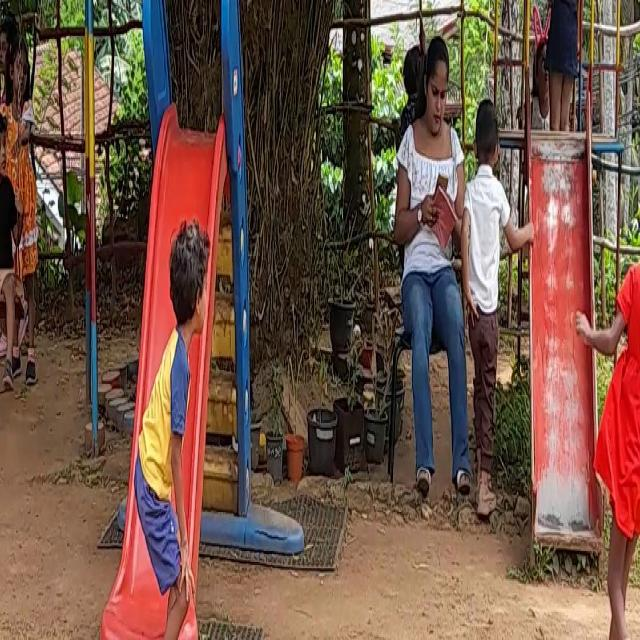adult: (388, 39, 460, 521)
child: (144, 215, 218, 640), (590, 171, 640, 640), (466, 90, 522, 506), (540, 0, 590, 128), (0, 111, 17, 382)
